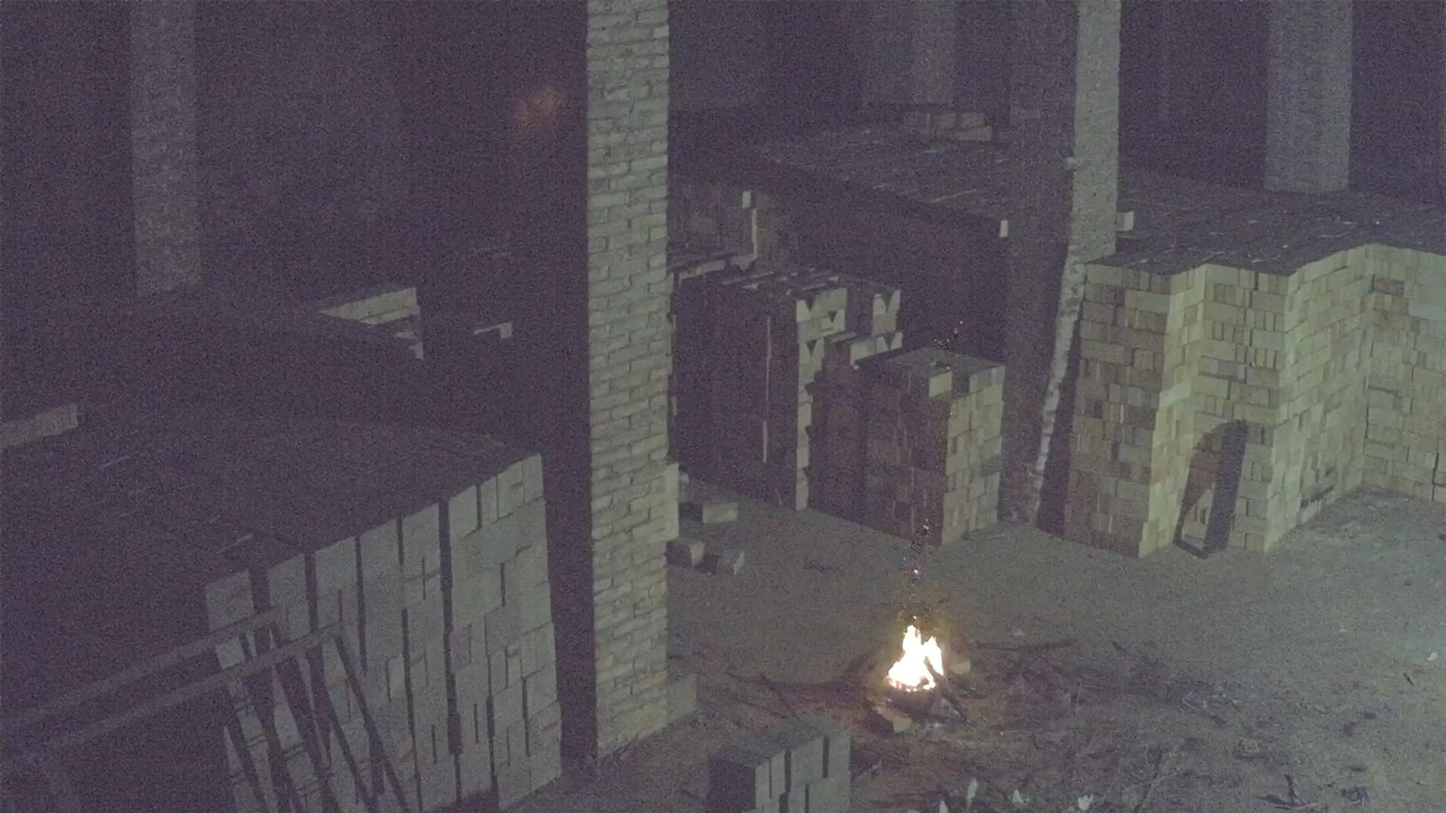fire: (888, 625, 944, 690)
